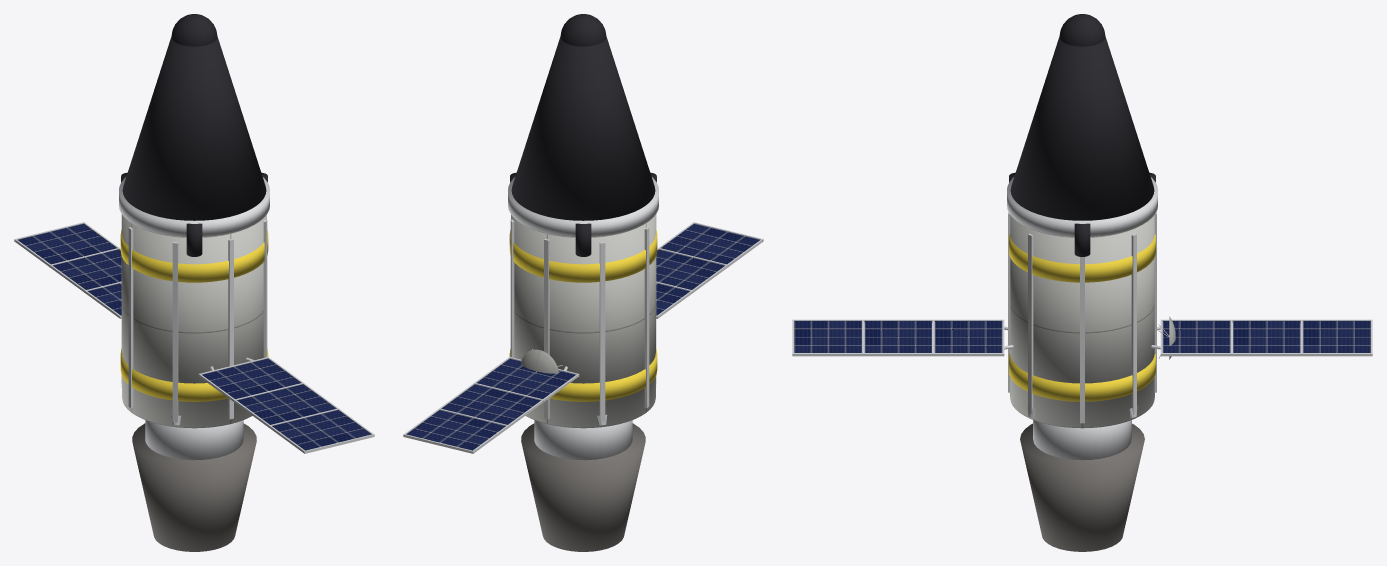
The model's file is nuclear.glb.
3 views of the same model, side by side, from view 1: azimuth 30°, elevation 25°; view 2: azimuth 150°, elevation 25°; view 3: azimuth 270°, elevation 25° (orthographic).
Parts seen in each view (by area): view 1: Cylinder, Cone, Cone.001, Cylinder.004, Cylinder.003, Cylinder.002, Cube.021, Cube.012, Cube.008, Cube.010, Cylinder.001, Cube.019 (+9 smaller); view 2: Cylinder, Cone, Cone.001, Cylinder.004, Cylinder.003, Cylinder.002, Cube.012, Cube.021, Cube.019, Cube.017, Cylinder.001, Cube.010 (+10 smaller); view 3: Cylinder, Cone, Cone.001, Cylinder.004, Cylinder.003, Cylinder.002, Cylinder.001, Cube.008, Cube.010, Cube.012, Cube.019, Cube.021 (+7 smaller).
Boxes of the visible parts, x1=… form: Cylinder: x1=122, y1=215, x2=266, y2=428; Cone: x1=122, y1=37, x2=266, y2=220; Cone.001: x1=132, y1=423, x2=256, y2=551; Cylinder.004: x1=145, y1=420, x2=243, y2=460; Cylinder.003: x1=119, y1=177, x2=269, y2=236; Cylinder.002: x1=120, y1=229, x2=268, y2=282; Cube.021: x1=17, y1=223, x2=116, y2=264; Cube.012: x1=272, y1=410, x2=371, y2=450; Cube.008: x1=202, y1=358, x2=300, y2=399; Cube.010: x1=237, y1=384, x2=336, y2=424; Cylinder.001: x1=120, y1=348, x2=268, y2=401; Cube.019: x1=52, y1=249, x2=121, y2=289; Cylinder: x1=511, y1=215, x2=655, y2=428; Cone: x1=511, y1=37, x2=655, y2=220; Cone.001: x1=521, y1=423, x2=645, y2=551; Cylinder.004: x1=534, y1=420, x2=632, y2=460; Cylinder.003: x1=508, y1=177, x2=658, y2=236; Cylinder.002: x1=509, y1=229, x2=657, y2=282; Cube.012: x1=661, y1=223, x2=760, y2=264; Cube.021: x1=406, y1=410, x2=505, y2=450; Cube.019: x1=441, y1=384, x2=540, y2=424; Cube.017: x1=477, y1=358, x2=575, y2=399; Cylinder.001: x1=509, y1=348, x2=657, y2=401; Cube.010: x1=656, y1=249, x2=725, y2=289; Cylinder: x1=1010, y1=215, x2=1154, y2=428; Cone: x1=1010, y1=37, x2=1154, y2=220; Cone.001: x1=1020, y1=423, x2=1144, y2=551; Cylinder.004: x1=1033, y1=420, x2=1131, y2=460; Cylinder.003: x1=1007, y1=177, x2=1157, y2=236; Cylinder.002: x1=1009, y1=234, x2=1155, y2=282; Cylinder.001: x1=1009, y1=354, x2=1155, y2=401; Cube.008: x1=934, y1=321, x2=1002, y2=352; Cube.010: x1=864, y1=321, x2=932, y2=352; Cube.012: x1=794, y1=321, x2=862, y2=352; Cube.019: x1=1232, y1=321, x2=1300, y2=352; Cube.021: x1=1302, y1=321, x2=1370, y2=352.
Bounding box in the file's own units: 2.42 × 8.7 × 8.83.
Materials: 7 (2 with a texture image).
